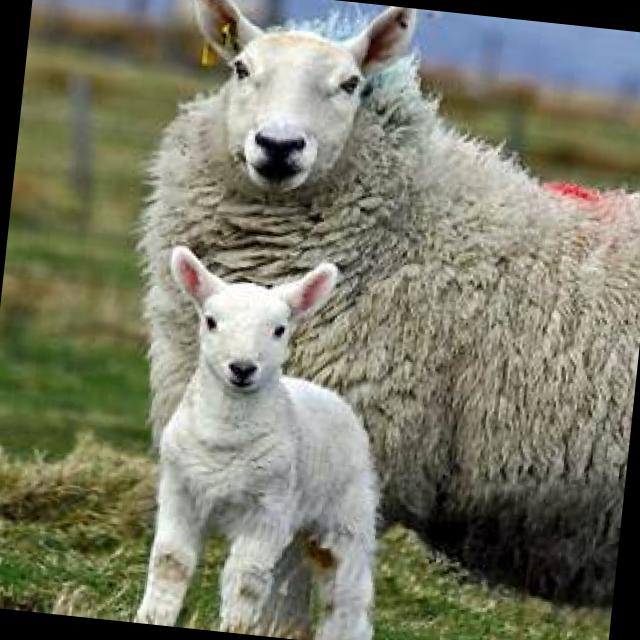sheep: (99, 0, 640, 621), (126, 239, 419, 640)
